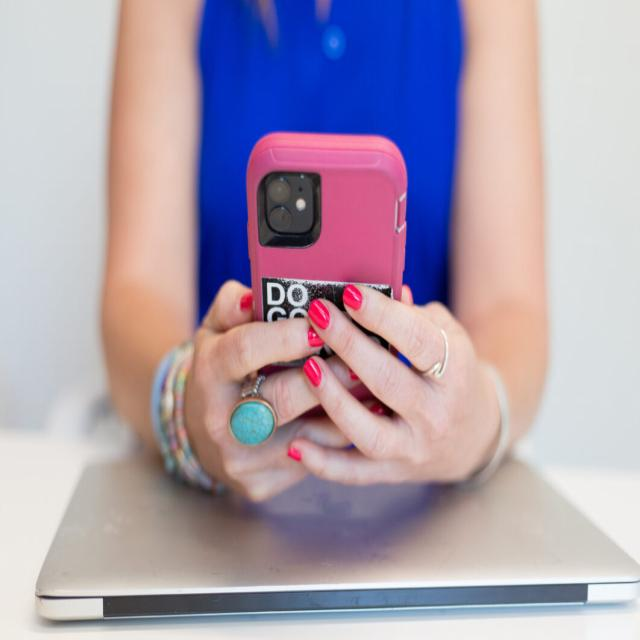phone: (242, 114, 418, 542)
